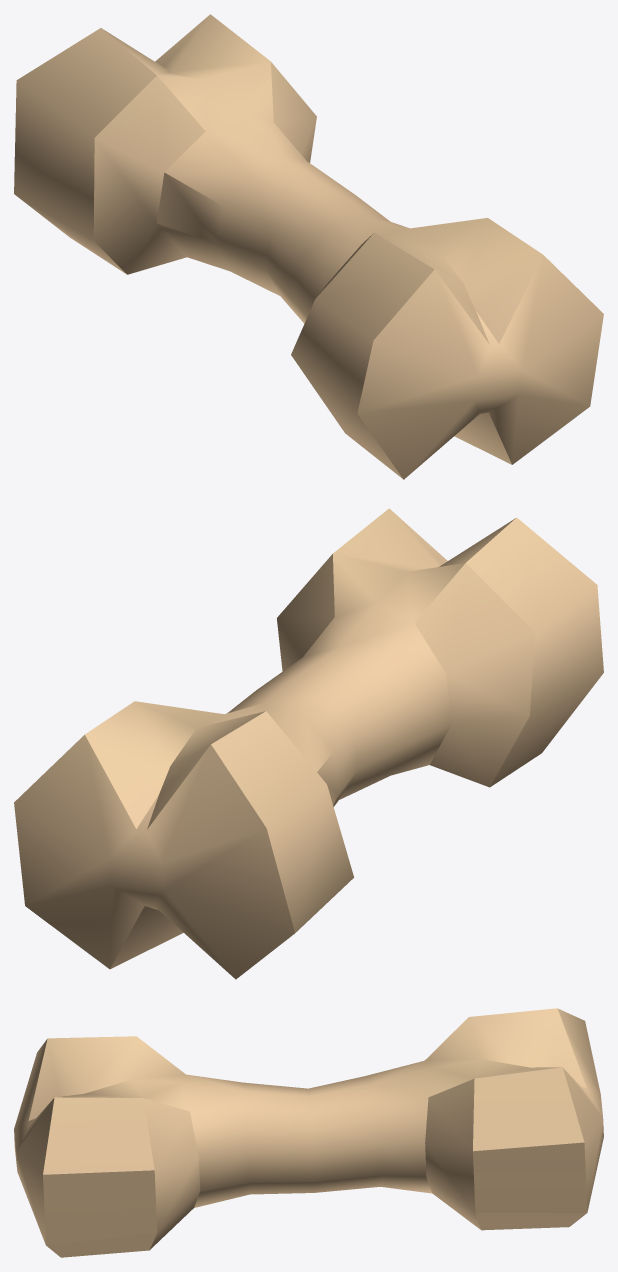
File: Bones_5.obj
3 views of the same model, one above another, from view 1: azimuth 30°, elevation 25°; view 2: azimuth 150°, elevation 25°; view 3: azimuth 270°, elevation 25° (orthographic). The views are drawn at different scales.
Parts seen in each view (by area): view 1: Bones_5; view 2: Bones_5; view 3: Bones_5.
Part boxes in pixels (box(x1,y1,x2,y2)): Bones_5: box(14, 14, 603, 479); Bones_5: box(14, 508, 603, 979); Bones_5: box(14, 1008, 603, 1257).
Size of the model in its own units: 0.1152 by 0.0984 by 0.2578.
